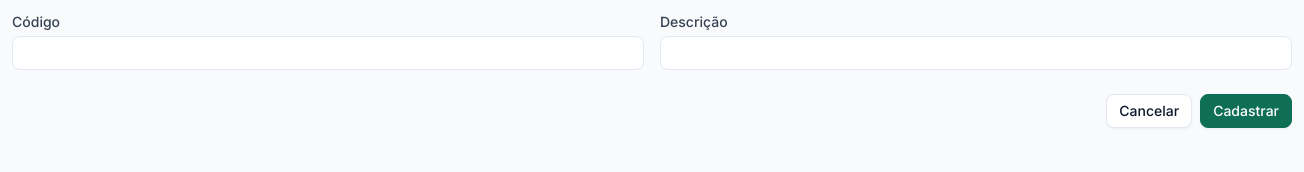
CostCenterForm › exige código e descrição ao submeter vazio
The image size is (1304, 172).
Click the button "Cadastrar". click: (1246, 111)
box: [1200,94,1292,128]
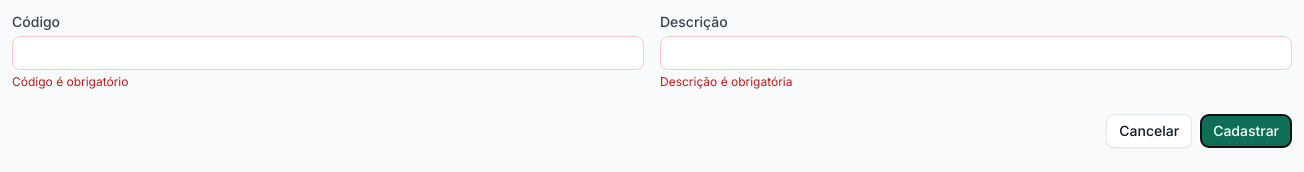
Now the text "Código é obrigatório" is shown, box [12,74,128,89]
Now the text "Descrição é obrigatória" is shown, box [660,74,792,89]
